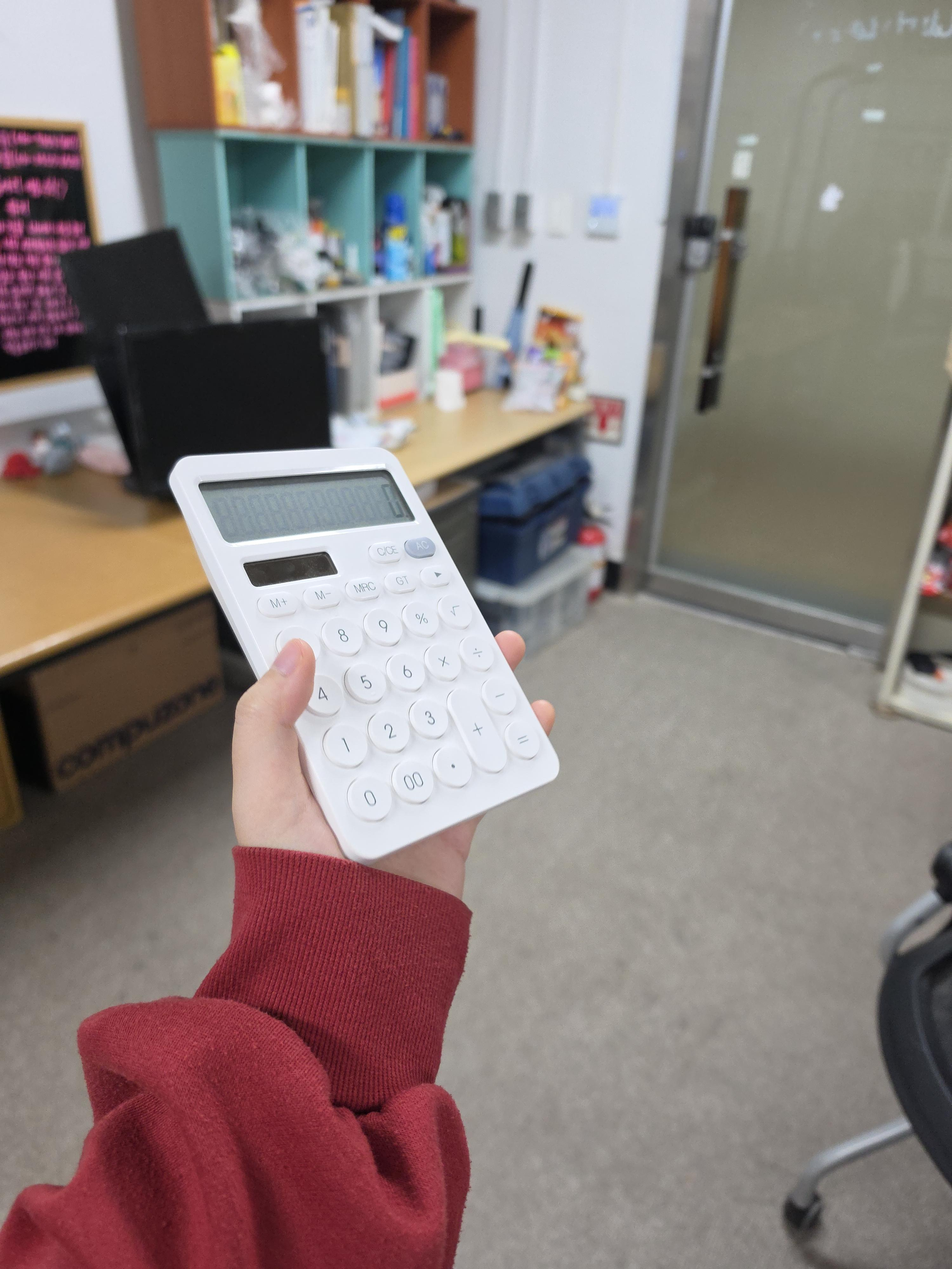calculator: (168, 447, 561, 863)
